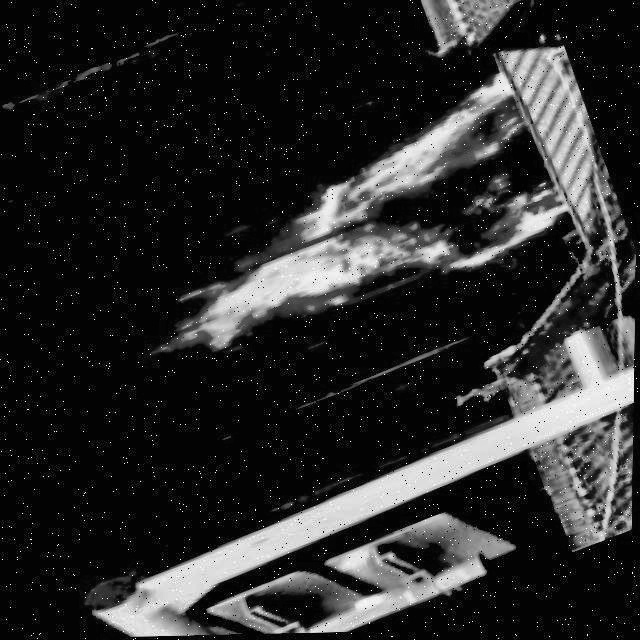Fire: (163, 73, 576, 366)
